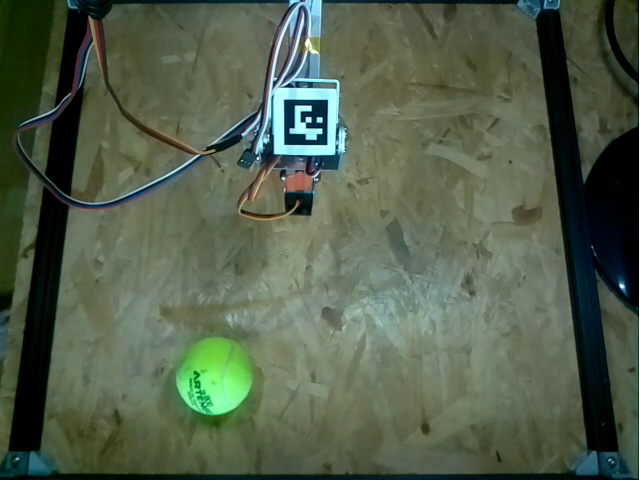tennis_ball: (175, 336, 254, 415)
